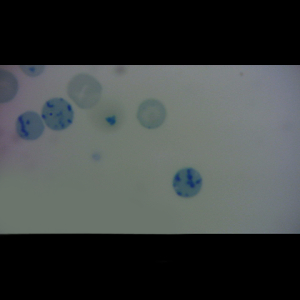aggregate reticulocyte: (41, 97, 75, 132), (172, 167, 204, 199), (15, 111, 46, 141)
erythrocyte: (67, 73, 104, 110)
punctate reticulocyte: (136, 98, 167, 130)
